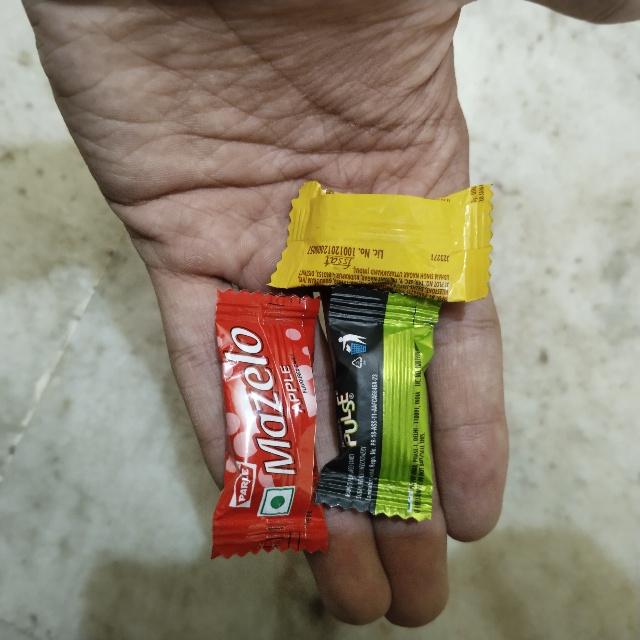Alpenlibe Creamfills: (279, 168, 502, 289)
Mazelo: (215, 286, 323, 552)
Pulse: (327, 286, 437, 520)
